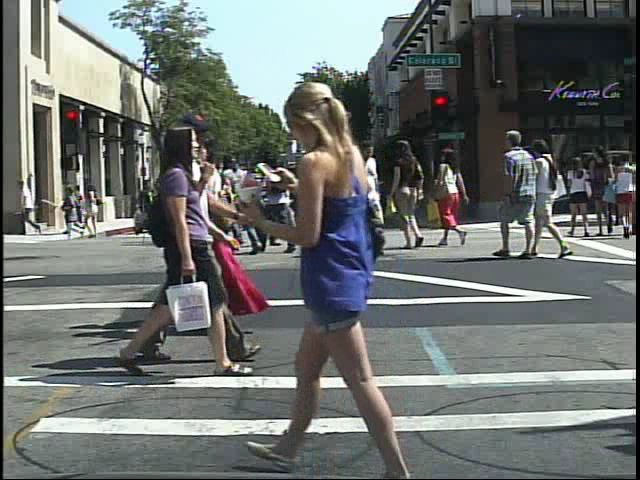person: (262, 72, 456, 478), (122, 114, 242, 382), (184, 104, 260, 365), (182, 133, 226, 334), (194, 133, 231, 338), (343, 136, 388, 260), (531, 133, 572, 263), (219, 139, 261, 261), (497, 127, 535, 261), (261, 150, 304, 261), (435, 145, 478, 255), (398, 136, 436, 256), (251, 148, 292, 249), (211, 151, 249, 251), (180, 155, 218, 251), (564, 148, 597, 241), (156, 172, 177, 241), (69, 182, 89, 232)
